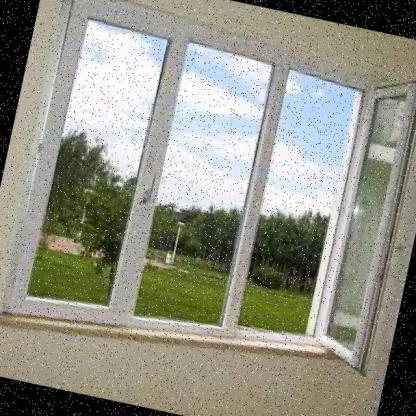Window: (0, 0, 416, 405)
